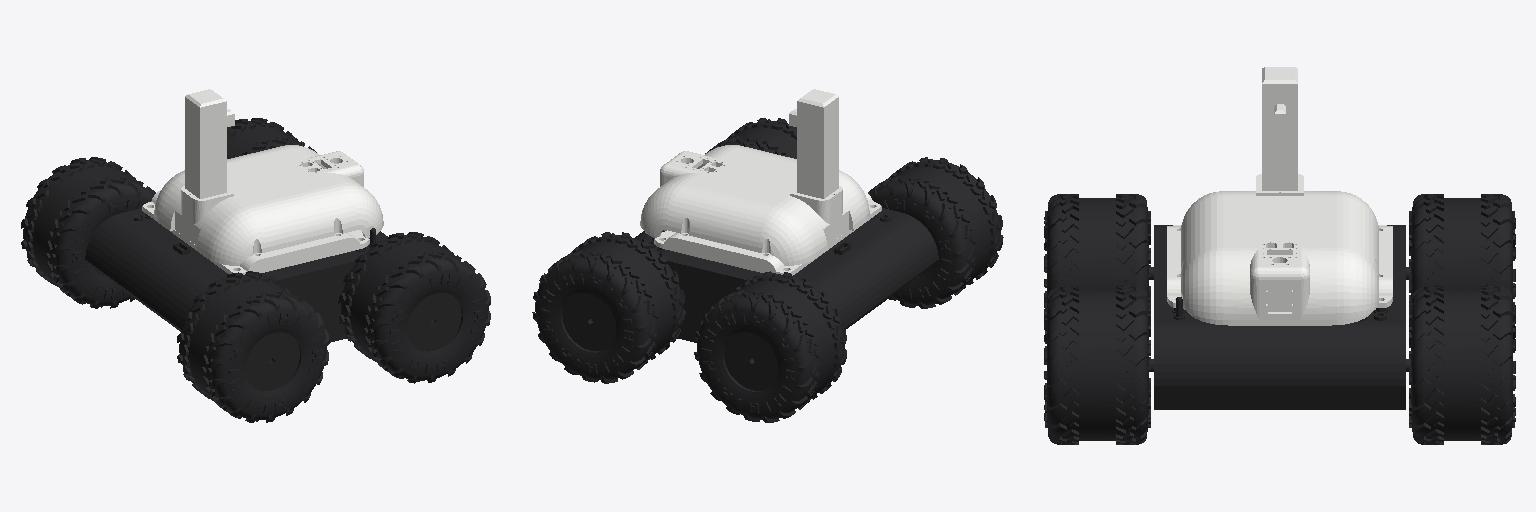
The robot description file, URDF, robot "Wifibot":
<?xml version="1.0" ?>
<!-- =================================================================================== -->
<!-- |    This document was autogenerated by xacro from Wifibot.xacro                  | -->
<!-- |    EDITING THIS FILE BY HAND IS NOT RECOMMENDED                                 | -->
<!-- =================================================================================== -->
<robot name="Wifibot">
  <material name="silver">
    <color rgba="0.700 0.700 0.700 1.000"/>
  </material>
  <material name="white">
    <color rgba="0.96 0.96 0.95 1.000"/>
  </material>
  <material name="black">
    <color rgba="0.08 0.08 0.08 1.0"/>
  </material>
  <material name="gray">
    <color rgba="0.2 0.2 0.21 1.0"/>
  </material>
  <transmission name="front_left_wheel_joint_tran">
    <type>transmission_interface/SimpleTransmission</type>
    <joint name="front_left_wheel_joint">
      <hardwareInterface>hardware_interface/EffortJointInterface</hardwareInterface>
    </joint>
    <actuator name="front_left_wheel_joint_actr">
      <hardwareInterface>hardware_interface/EffortJointInterface</hardwareInterface>
      <mechanicalReduction>1</mechanicalReduction>
    </actuator>
  </transmission>
  <transmission name="front_right_wheel_joint_tran">
    <type>transmission_interface/SimpleTransmission</type>
    <joint name="front_right_wheel_joint">
      <hardwareInterface>hardware_interface/EffortJointInterface</hardwareInterface>
    </joint>
    <actuator name="front_right_wheel_joint_actr">
      <hardwareInterface>hardware_interface/EffortJointInterface</hardwareInterface>
      <mechanicalReduction>1</mechanicalReduction>
    </actuator>
  </transmission>
  <transmission name="rear_left_wheel_joint_tran">
    <type>transmission_interface/SimpleTransmission</type>
    <joint name="rear_left_wheel_joint">
      <hardwareInterface>hardware_interface/EffortJointInterface</hardwareInterface>
    </joint>
    <actuator name="rear_left_wheel_joint_actr">
      <hardwareInterface>hardware_interface/EffortJointInterface</hardwareInterface>
      <mechanicalReduction>1</mechanicalReduction>
    </actuator>
  </transmission>
  <transmission name="rear_right_wheel_joint_tran">
    <type>transmission_interface/SimpleTransmission</type>
    <joint name="rear_right_wheel_joint">
      <hardwareInterface>hardware_interface/EffortJointInterface</hardwareInterface>
    </joint>
    <actuator name="rear_right_wheel_joint_actr">
      <hardwareInterface>hardware_interface/EffortJointInterface</hardwareInterface>
      <mechanicalReduction>1</mechanicalReduction>
    </actuator>
  </transmission>
  <gazebo>
    <plugin filename="libgazebo_ros_control.so" name="control"/>
  </gazebo>
  <gazebo reference="chassis_link">
    <material>Gazebo/DarkGrey</material>
    <mu1>0.2</mu1>
    <mu2>0.2</mu2>
    <selfCollide>true</selfCollide>
    <gravity>true</gravity>
  </gazebo>
  <gazebo reference="front_left_wheel_1">
    <material>Gazebo/Grey</material>
    <mu1>0.2</mu1>
    <mu2>0.2</mu2>
    <selfCollide>true</selfCollide>
  </gazebo>
  <gazebo reference="front_right_wheel_1">
    <material>Gazebo/Grey</material>
    <mu1>0.2</mu1>
    <mu2>0.2</mu2>
    <selfCollide>true</selfCollide>
  </gazebo>
  <gazebo reference="rear_left_wheel_1">
    <material>Gazebo/Grey</material>
    <mu1>0.2</mu1>
    <mu2>0.2</mu2>
    <selfCollide>true</selfCollide>
  </gazebo>
  <gazebo reference="rear_right_wheel_1">
    <material>Gazebo/Grey</material>
    <mu1>0.2</mu1>
    <mu2>0.2</mu2>
    <selfCollide>true</selfCollide>
  </gazebo>
  <gazebo reference="support_v1_1">
    <material>Gazebo/Silver</material>
    <mu1>0.2</mu1>
    <mu2>0.2</mu2>
    <selfCollide>true</selfCollide>
  </gazebo>
  <gazebo reference="capot_v1_1">
    <material>Gazebo/Silver</material>
    <mu1>0.2</mu1>
    <mu2>0.2</mu2>
    <selfCollide>true</selfCollide>
  </gazebo>
  <gazebo reference="support_camera_v1_1">
    <material>Gazebo/Silver</material>
    <mu1>0.2</mu1>
    <mu2>0.2</mu2>
    <selfCollide>true</selfCollide>
  </gazebo>
  <gazebo>
    <plugin filename="libgazebo_ros_skid_steer_drive.so" name="skid_steer_drive_controller">
      <updateRate>100.0</updateRate>
      <robotNamespace>/</robotNamespace>
      <leftFrontJoint>front_left_wheel_joint</leftFrontJoint>
      <rightFrontJoint>front_right_wheel_joint</rightFrontJoint>
      <leftRearJoint>rear_left_wheel_joint</leftRearJoint>
      <rightRearJoint>rear_right_wheel_joint</rightRearJoint>
      <wheelSeparation>0.21881</wheelSeparation>
      <wheelDiameter>0.131</wheelDiameter>
      <robotBaseFrame>chassis_link</robotBaseFrame>
      <torque>20</torque>
      <topicName>cmd_vel</topicName>
      <commandTopic>cmd_vel</commandTopic>
      <broadcastTF>false</broadcastTF>
    </plugin>
  </gazebo>
  <link name="base_link">
</link>
  <joint name="chassis_joint" type="fixed">
    <parent link="base_link"/>
    <child link="chassis_link"/>
    <origin rpy="0 0 0" xyz="-0.1 0 0"/>
  </joint>
  <link name="chassis_link">
    <inertial>
      <origin rpy="0 0 0" xyz="0.0008538308347129231 -0.00188802983375572 0.06669854261691827"/>
      <mass value="30.263664321753744"/>
      <inertia ixx="0.124124" ixy="-2e-05" ixz="-2.4e-05" iyy="0.154149" iyz="-3e-06" izz="0.248504"/>
    </inertial>
    <visual>
      <origin rpy="0 0 0" xyz="0 0 0"/>
      <geometry>
        <mesh filename="package://Wifibot_description/meshes/base_link.stl" scale="0.01 0.01 0.01"/>
      </geometry>
      <material name="gray"/>
    </visual>
    <collision>
      <origin rpy="0 0 0" xyz="0 0 0"/>
      <geometry>
        <mesh filename="package://Wifibot_description/meshes/base_link.stl" scale="0.01 0.01 0.01"/>
      </geometry>
    </collision>
  </link>
  <link name="front_left_wheel_1">
    <inertial>
      <origin rpy="0 0 0" xyz="-1.7301418626936016e-07 0.046226741977504066 2.256949969164923e-06"/>
      <mass value="1.1710647510299943"/>
      <inertia ixx="0.002726" ixy="0.0" ixz="-0.0" iyy="0.003208" iyz="0.0" izz="0.002726"/>
    </inertial>
    <visual>
      <origin rpy="0 0 0" xyz="-0.090837 -0.102108 -0.06551"/>
      <geometry>
        <mesh filename="package://Wifibot_description/meshes/front_left_wheel_1.stl" scale="0.01 0.01 0.01"/>
      </geometry>
      <material name="gray"/>
    </visual>
    <collision>
      <origin rpy="0 0 0" xyz="-0.090837 -0.102108 -0.06551"/>
      <geometry>
        <mesh filename="package://Wifibot_description/meshes/front_left_wheel_1.stl" scale="0.01 0.01 0.01"/>
      </geometry>
    </collision>
  </link>
  <link name="front_right_wheel_1">
    <inertial>
      <origin rpy="0 0 0" xyz="-2.0148622627280677e-07 -0.0462270174481091 2.2569499691510453e-06"/>
      <mass value="1.1710647510299943"/>
      <inertia ixx="0.002726" ixy="0.0" ixz="0.0" iyy="0.003208" iyz="-0.0" izz="0.002726"/>
    </inertial>
    <visual>
      <origin rpy="0 0 0" xyz="-0.090837 0.105892 -0.06551"/>
      <geometry>
        <mesh filename="package://Wifibot_description/meshes/front_right_wheel_1.stl" scale="0.01 0.01 0.01"/>
      </geometry>
      <material name="gray"/>
    </visual>
    <collision>
      <origin rpy="0 0 0" xyz="-0.090837 0.105892 -0.06551"/>
      <geometry>
        <mesh filename="package://Wifibot_description/meshes/front_right_wheel_1.stl" scale="0.01 0.01 0.01"/>
      </geometry>
    </collision>
  </link>
  <link name="rear_left_wheel_1">
    <inertial>
      <origin rpy="0 0 0" xyz="-1.7301418654691592e-07 0.04622674197750512 2.25694996924819e-06"/>
      <mass value="1.1710647510299943"/>
      <inertia ixx="0.002726" ixy="0.0" ixz="-0.0" iyy="0.003208" iyz="0.0" izz="0.002726"/>
    </inertial>
    <visual>
      <origin rpy="0 0 0" xyz="0.089163 -0.102108 -0.06551"/>
      <geometry>
        <mesh filename="package://Wifibot_description/meshes/rear_left_wheel_1.stl" scale="0.01 0.01 0.01"/>
      </geometry>
      <material name="gray"/>
    </visual>
    <collision>
      <origin rpy="0 0 0" xyz="0.089163 -0.102108 -0.06551"/>
      <geometry>
        <mesh filename="package://Wifibot_description/meshes/rear_left_wheel_1.stl" scale="0.01 0.01 0.01"/>
      </geometry>
    </collision>
  </link>
  <link name="rear_right_wheel_1">
    <inertial>
      <origin rpy="0 0 0" xyz="-2.0148622641158465e-07 -0.04622701681332976 2.2569499692204342e-06"/>
      <mass value="1.1710647510299943"/>
      <inertia ixx="0.002726" ixy="0.0" ixz="0.0" iyy="0.003208" iyz="-0.0" izz="0.002726"/>
    </inertial>
    <visual>
      <origin rpy="0 0 0" xyz="0.089163 0.105892 -0.06551"/>
      <geometry>
        <mesh filename="package://Wifibot_description/meshes/rear_right_wheel_1.stl" scale="0.01 0.01 0.01"/>
      </geometry>
      <material name="gray"/>
    </visual>
    <collision>
      <origin rpy="0 0 0" xyz="0.089163 0.105892 -0.06551"/>
      <geometry>
        <mesh filename="package://Wifibot_description/meshes/rear_right_wheel_1.stl" scale="0.01 0.01 0.01"/>
      </geometry>
    </collision>
  </link>
  <link name="support_v1_1">
    <inertial>
      <origin rpy="0 0 0" xyz="-0.2017991285587109 -0.17452200920541733 -0.023010000000000128"/>
      <mass value="1.2598198733152801"/>
      <inertia ixx="0.003357" ixy="1.2e-05" ixz="-0.0" iyy="0.003352" iyz="0.0" izz="0.006704"/>
    </inertial>
    <visual>
      <origin rpy="0 0 0" xyz="-0.215729 -0.171945 -0.13662"/>
      <geometry>
        <mesh filename="package://Wifibot_description/meshes/support_v1_1.stl" scale="0.01 0.01 0.01"/>
      </geometry>
      <material name="white"/>
    </visual>
    <collision>
      <origin rpy="0 0 0" xyz="-0.215729 -0.171945 -0.13662"/>
      <geometry>
        <mesh filename="package://Wifibot_description/meshes/support_v1_1.stl" scale="0.01 0.01 0.01"/>
      </geometry>
    </collision>
  </link>
  <link name="capot_v1_1">
    <inertial>
      <origin rpy="0 0 0" xyz="0.014910124960665993 0.09303956377418005 0.028422321571636835"/>
      <mass value="1.8514525863187674"/>
      <inertia ixx="0.005929" ixy="-5e-06" ixz="-1.5e-05" iyy="0.006616" iyz="2e-06" izz="0.011811"/>
    </inertial>
    <visual>
      <origin rpy="0 0 0" xyz="-0.000837 0.094892 -0.11611"/>
      <geometry>
        <mesh filename="package://Wifibot_description/meshes/capot_v1_1.stl" scale="0.01 0.01 0.01"/>
      </geometry>
      <material name="white"/>
    </visual>
    <collision>
      <origin rpy="0 0 0" xyz="-0.000837 0.094892 -0.11611"/>
      <geometry>
        <mesh filename="package://Wifibot_description/meshes/capot_v1_1.stl" scale="0.01 0.01 0.01"/>
      </geometry>
    </collision>
  </link>
  <link name="support_camera_v1_1">
    <inertial>
      <origin rpy="0 0 0" xyz="0.018121000409102618 2.064957086522854e-07 0.05131900678806825"/>
      <mass value="0.25111231247455446"/>
      <inertia ixx="0.000285" ixy="0.0" ixz="-4e-06" iyy="0.000289" iyz="0.0" izz="6.7e-05"/>
    </inertial>
    <visual>
      <origin rpy="0 0 0" xyz="0.072328 0.001896 -0.16111"/>
      <geometry>
        <mesh filename="package://Wifibot_description/meshes/support_camera_v1_1.stl" scale="0.01 0.01 0.01"/>
      </geometry>
      <material name="white"/>
    </visual>
    <collision>
      <origin rpy="0 0 0" xyz="0.072328 0.001896 -0.16111"/>
      <geometry>
        <mesh filename="package://Wifibot_description/meshes/support_camera_v1_1.stl" scale="0.01 0.01 0.01"/>
      </geometry>
    </collision>
  </link>
  <joint name="front_left_wheel_joint" type="continuous">
    <origin rpy="0 0 0" xyz="0.090837 0.102108 0.06551"/>
    <parent link="chassis_link"/>
    <child link="front_left_wheel_1"/>
    <axis xyz="0.0 1.0 0.0"/>
  </joint>
  <joint name="front_right_wheel_joint" type="continuous">
    <origin rpy="0 0 0" xyz="0.090837 -0.105892 0.06551"/>
    <parent link="chassis_link"/>
    <child link="front_right_wheel_1"/>
    <axis xyz="0.0 1.0 0.0"/>
  </joint>
  <joint name="rear_left_wheel_joint" type="continuous">
    <origin rpy="0 0 0" xyz="-0.089163 0.102108 0.06551"/>
    <parent link="chassis_link"/>
    <child link="rear_left_wheel_1"/>
    <axis xyz="0.0 1.0 0.0"/>
  </joint>
  <joint name="rear_right_wheel_joint" type="continuous">
    <origin rpy="0 0 0" xyz="-0.089163 -0.105892 0.06551"/>
    <parent link="chassis_link"/>
    <child link="rear_right_wheel_1"/>
    <axis xyz="-0.0 -1.0 -0.0"/>
  </joint>
  <joint name="Rigide 22" type="fixed">
    <origin rpy="0 0 0" xyz="0.215729 0.171945 0.13662"/>
    <parent link="chassis_link"/>
    <child link="support_v1_1"/>
  </joint>
  <joint name="Rigide 23" type="fixed">
    <origin rpy="0 0 0" xyz="-0.214892 -0.266837 -0.02051"/>
    <parent link="support_v1_1"/>
    <child link="capot_v1_1"/>
  </joint>
  <joint name="Rigide 24" type="fixed">
    <origin rpy="0 0 0" xyz="-0.073165 0.092996 0.045"/>
    <parent link="capot_v1_1"/>
    <child link="support_camera_v1_1"/>
  </joint>
</robot>

--- What the picture shows (computed from the rendered views, not written in the file) ---
3 views of the same robot in one strip: view 1: azimuth 30°, elevation 25°; view 2: azimuth 150°, elevation 25°; view 3: azimuth 270°, elevation 25° (orthographic).
Model Wifibot with 9 links and 8 joints (4 continuous, 4 fixed), rooted at base_link, posed all joints at 0.
Links seen in each view (by area): view 1: capot_v1_1, rear_right_wheel_1, front_right_wheel_1, chassis_link, rear_left_wheel_1, support_camera_v1_1, front_left_wheel_1, support_v1_1; view 2: capot_v1_1, front_left_wheel_1, rear_left_wheel_1, chassis_link, rear_right_wheel_1, support_camera_v1_1, front_right_wheel_1, support_v1_1; view 3: capot_v1_1, chassis_link, front_left_wheel_1, front_right_wheel_1, rear_left_wheel_1, rear_right_wheel_1, support_camera_v1_1, support_v1_1.
Link boxes in pixels (left/top/right/bottom): capot_v1_1: left=151, top=145, right=383, bottom=271; rear_right_wheel_1: left=177, top=271, right=329, bottom=422; front_right_wheel_1: left=338, top=232, right=490, bottom=383; chassis_link: left=85, top=208, right=387, bottom=342; rear_left_wheel_1: left=21, top=157, right=155, bottom=308; support_camera_v1_1: left=181, top=89, right=234, bottom=202; front_left_wheel_1: left=227, top=118, right=316, bottom=158; support_v1_1: left=142, top=202, right=379, bottom=274; capot_v1_1: left=640, top=145, right=872, bottom=271; front_left_wheel_1: left=532, top=232, right=685, bottom=383; rear_left_wheel_1: left=694, top=271, right=846, bottom=422; chassis_link: left=634, top=208, right=938, bottom=342; rear_right_wheel_1: left=868, top=157, right=1003, bottom=308; support_camera_v1_1: left=789, top=89, right=842, bottom=202; front_right_wheel_1: left=705, top=118, right=796, bottom=158; support_v1_1: left=645, top=201, right=881, bottom=275; capot_v1_1: left=1167, top=191, right=1392, bottom=319; chassis_link: left=1154, top=225, right=1405, bottom=409; front_left_wheel_1: left=1406, top=286, right=1515, bottom=444; front_right_wheel_1: left=1044, top=286, right=1153, bottom=444; rear_left_wheel_1: left=1406, top=194, right=1515, bottom=326; rear_right_wheel_1: left=1044, top=194, right=1153, bottom=317; support_camera_v1_1: left=1256, top=67, right=1303, bottom=195; support_v1_1: left=1167, top=225, right=1392, bottom=325.
Bounding box of the posed robot: 0.311 × 0.3889 × 0.2636 m (x, y, z).
8 mesh visuals loaded from 8 distinct referenced files (8 binary STL).